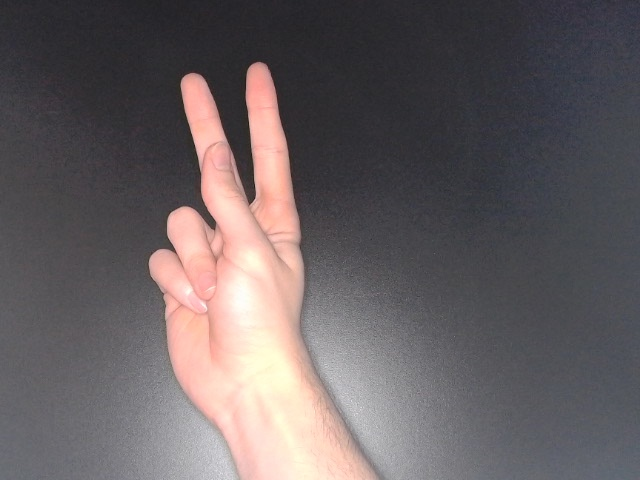k: (140, 57, 311, 440)
